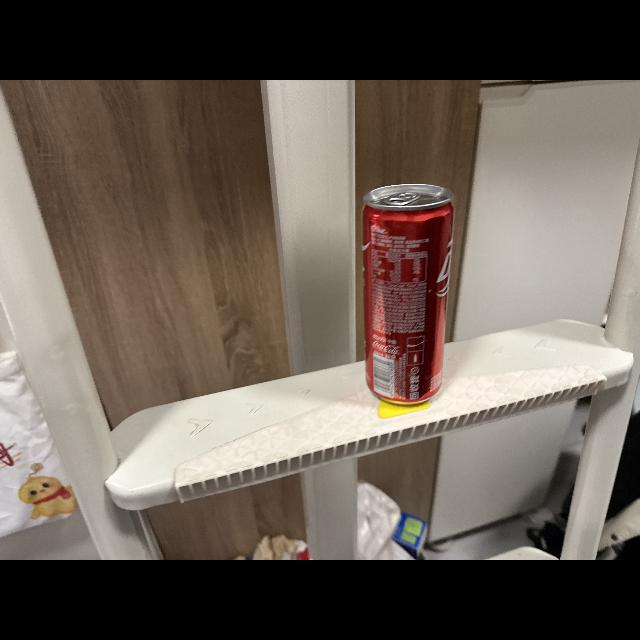Cola: (356, 178, 468, 412)
